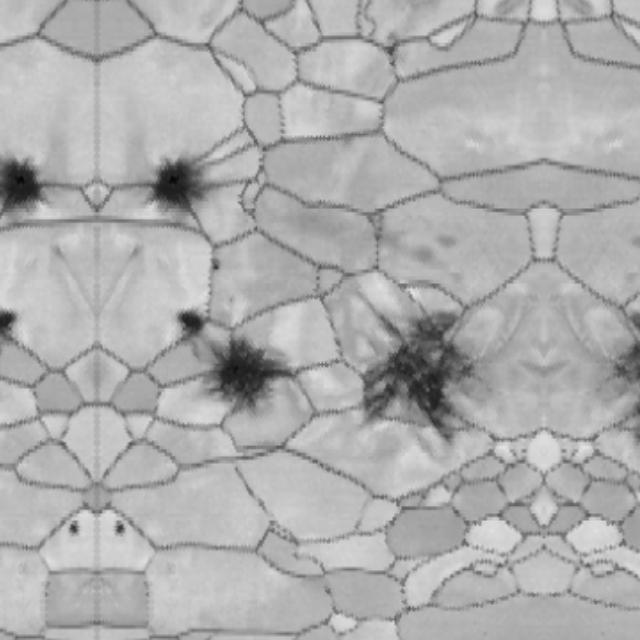good_void: (346, 298, 488, 455), (209, 336, 295, 426), (599, 298, 640, 455), (147, 156, 214, 220), (0, 156, 45, 220), (382, 232, 433, 264), (178, 304, 212, 343), (206, 247, 224, 279), (0, 310, 14, 343), (438, 231, 458, 251), (110, 519, 128, 540), (64, 519, 82, 540), (629, 232, 640, 251)
